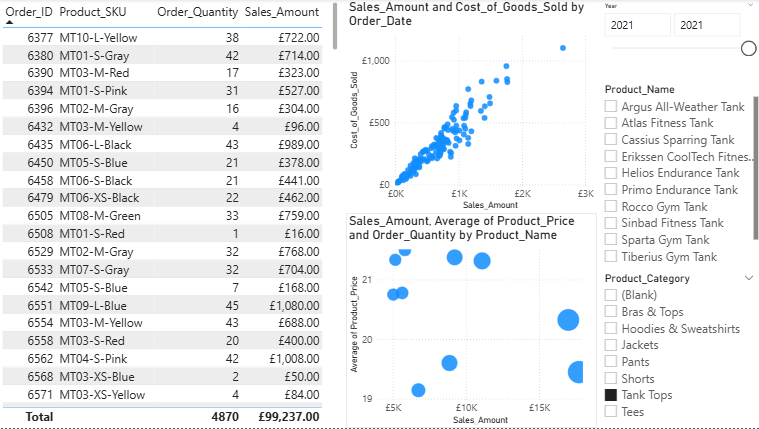

The page's visual inventory and layout, read from the dashboard file:
{"tool":"powerbi","page":{"name":"Order Details","canvas":[1280,720],"ordinal":0},"visuals":[{"type":"tableEx","fields":{"Values":["Orders.Order_ID","Orders.Product_SKU","Sum(Orders. Order_Quantity )","Sum(Orders.Sales_Amount)"]},"box":[0,0,574.2,719.6],"z":0},{"type":"slicer","fields":{"Values":["Orders.Order_Date.Variation.Date Hierarchy.Year"]},"box":[1004.2,0,275.8,136.6],"z":1000},{"type":"slicer","fields":{"Values":["Products.Product_Name"]},"box":[1004.2,136.6,275.8,317.4],"z":2000},{"type":"scatterChart","fields":{"X":["Sum(Orders.Sales_Amount)"],"Y":["Sum(Orders.Cost_of_Goods_Sold)"],"Category":["Orders.Order_Date"]},"box":[583.3,0,421.1,359.8],"z":3000},{"type":"slicer","fields":{"Values":["Products.Product_Category"]},"box":[1004.2,454,275.8,265.4],"z":4000},{"type":"scatterChart","fields":{"X":["Sum(Orders.Sales_Amount)"],"Y":["Avg(Orders.Product_Price)"],"Size":["Sum(Orders. Order_Quantity )"],"Category":["Products.Product_Name"]},"box":[583,360,421,360],"z":5000}]}

Visuals, with their boxes in screenshot pixels (x1, y1, x2, y2), scaled from the page's 1280x720 canvas onto the 759x429 screenshot:
tableEx - Orders.Order_ID x Orders.Product_SKU: {"x1": 0, "y1": 0, "x2": 340, "y2": 428}
slicer - Orders.Order_Date.Variation.Date Hierarchy.Year: {"x1": 595, "y1": 0, "x2": 758, "y2": 81}
slicer - Products.Product_Name: {"x1": 595, "y1": 81, "x2": 758, "y2": 271}
scatterChart - Sum(Orders.Sales_Amount) x Sum(Orders.Cost_of_Goods_Sold): {"x1": 346, "y1": 0, "x2": 596, "y2": 214}
slicer - Products.Product_Category: {"x1": 595, "y1": 271, "x2": 758, "y2": 428}
scatterChart - Sum(Orders.Sales_Amount) x Avg(Orders.Product_Price): {"x1": 346, "y1": 214, "x2": 595, "y2": 428}
